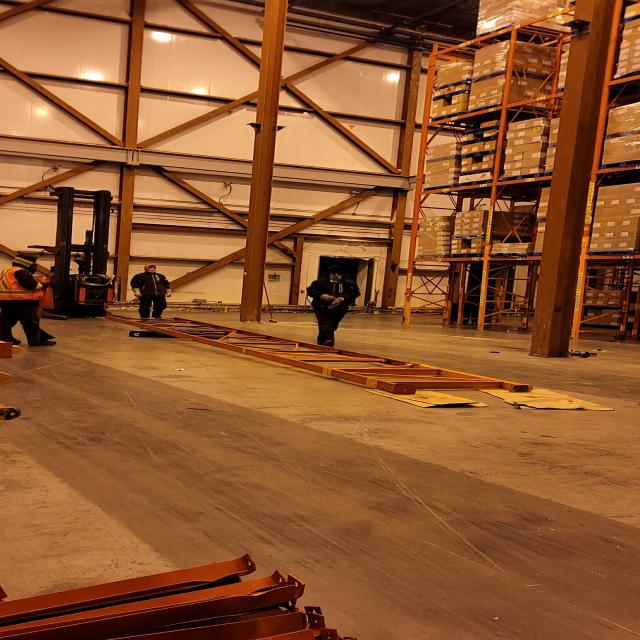forklift: (18, 188, 142, 322)
human: (0, 252, 61, 350), (302, 270, 366, 348), (129, 262, 175, 322)
objectofinterest: (104, 314, 534, 395), (476, 382, 618, 414), (358, 382, 489, 409), (124, 326, 180, 341)
